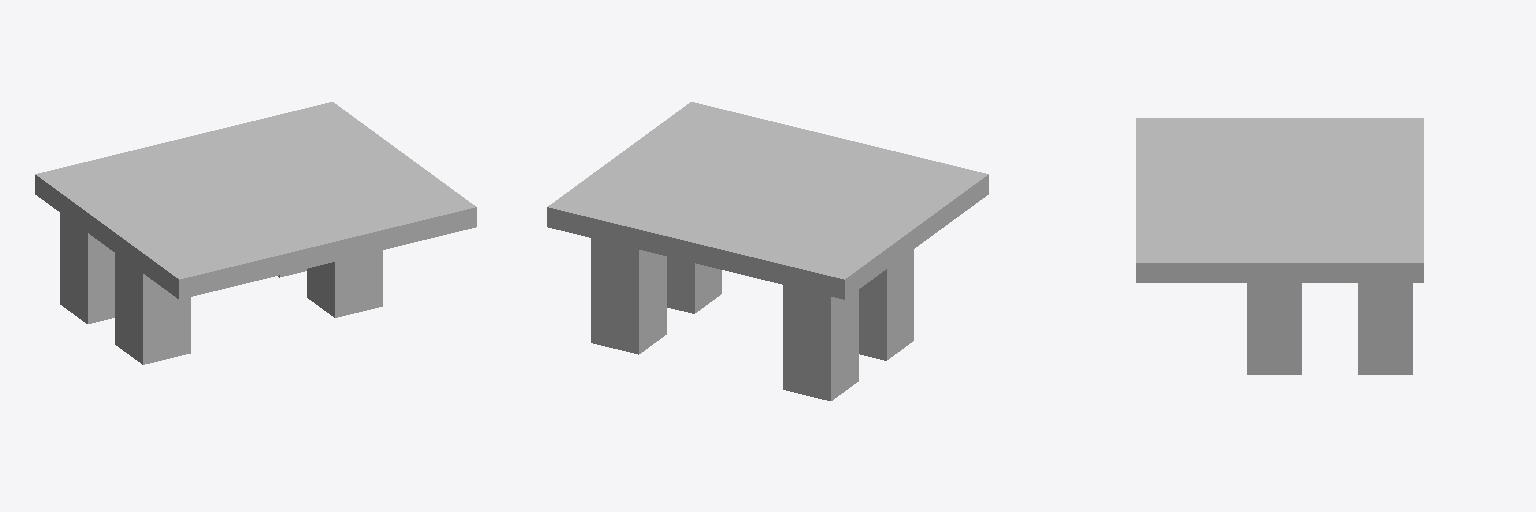
Rendered from furniturez_table.obj.
3 views of the same model, side by side, from view 1: azimuth 30°, elevation 25°; view 2: azimuth 150°, elevation 25°; view 3: azimuth 270°, elevation 25° (orthographic).
Parts seen in each view (by area): view 1: cube; view 2: cube; view 3: cube.
Part boxes in pixels (left/top/right/bottom): cube: left=35, top=102, right=476, bottom=364; cube: left=547, top=102, right=988, bottom=400; cube: left=1136, top=118, right=1423, bottom=374.
Bounding box in the file's own units: 1.94 × 0.8125 × 1.62.